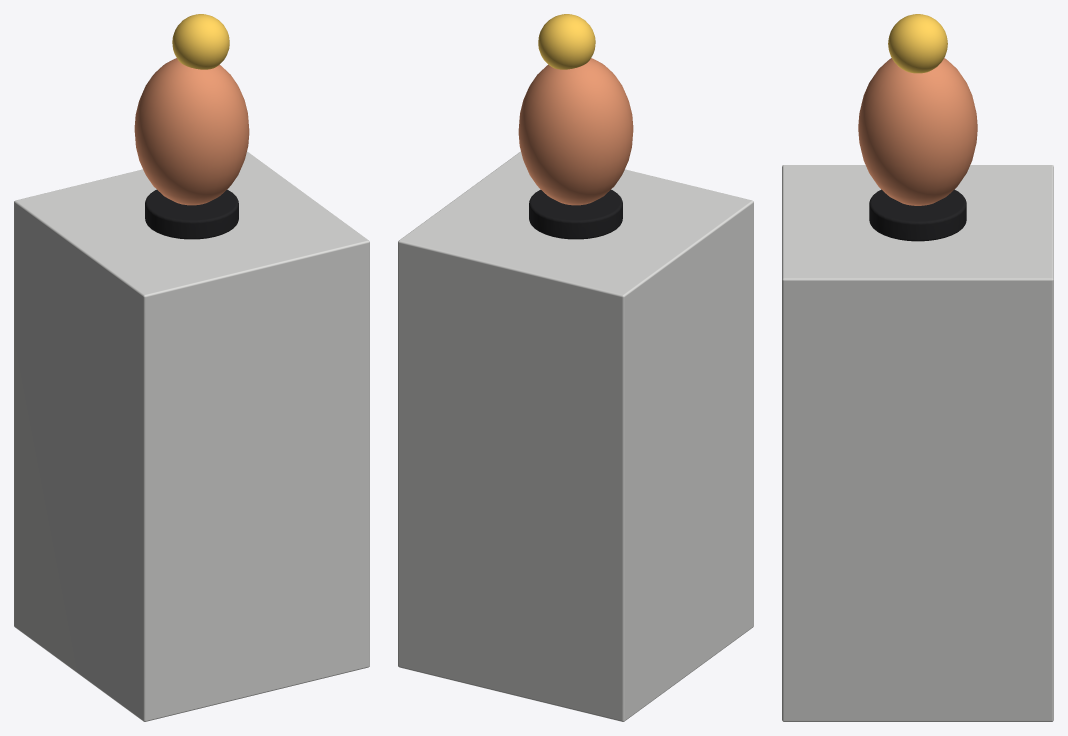
Rendered from plinth.glb.
3 views of the same model, side by side, from view 1: azimuth 30°, elevation 25°; view 2: azimuth 150°, elevation 25°; view 3: azimuth 270°, elevation 25° (orthographic). The views are drawn at different scales.
Parts seen in each view (by area): view 1: Plinth.001, PlinthSculpt.001, PlinthSculptBase.001, PlinthSculptTop.001; view 2: Plinth.001, PlinthSculpt.001, PlinthSculptBase.001, PlinthSculptTop.001; view 3: Plinth.001, PlinthSculpt.001, PlinthSculptBase.001, PlinthSculptTop.001.
Part boxes in pixels (x1,y1,x2,y2): Plinth.001: [14, 151, 369, 721]; PlinthSculpt.001: [134, 58, 249, 205]; PlinthSculptBase.001: [145, 189, 238, 239]; PlinthSculptTop.001: [172, 14, 229, 69]; Plinth.001: [398, 151, 753, 721]; PlinthSculpt.001: [518, 58, 633, 205]; PlinthSculptBase.001: [529, 189, 622, 239]; PlinthSculptTop.001: [538, 14, 595, 69]; Plinth.001: [782, 165, 1053, 721]; PlinthSculpt.001: [858, 58, 977, 205]; PlinthSculptBase.001: [869, 189, 966, 241]; PlinthSculptTop.001: [888, 14, 947, 73].
Size of the model in its own units: 1.11 by 2.94 by 1.11.
